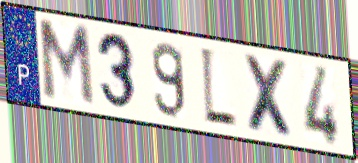3: (95, 28, 141, 113)
4: (301, 63, 341, 147)
9: (150, 40, 186, 120)
L: (197, 43, 239, 133)
M: (36, 17, 98, 111)
X: (241, 50, 298, 142)
